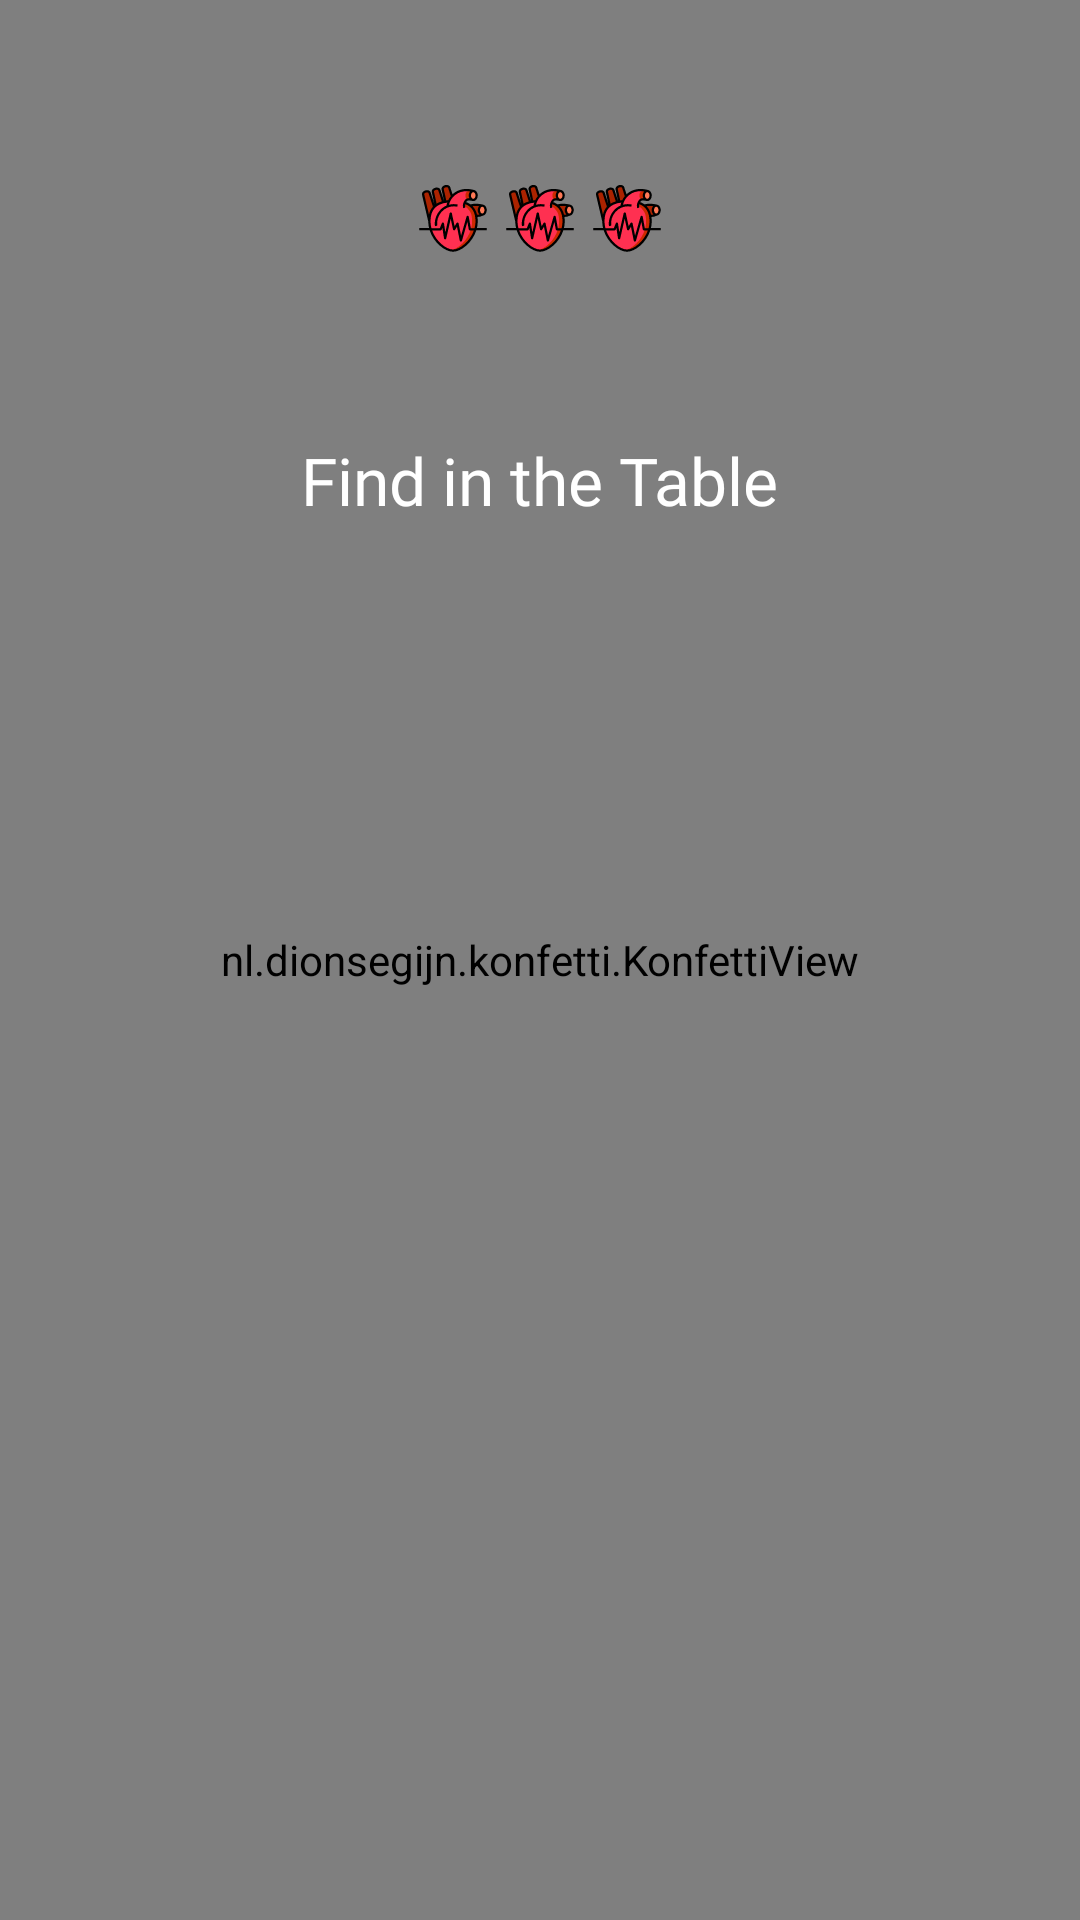

Named icons in this screenshot (1080 x 1920) and their bounding boxes, (x1, y1, x2, y2):
First heart: (419, 185, 487, 252), (506, 185, 574, 252), (593, 185, 661, 252)
